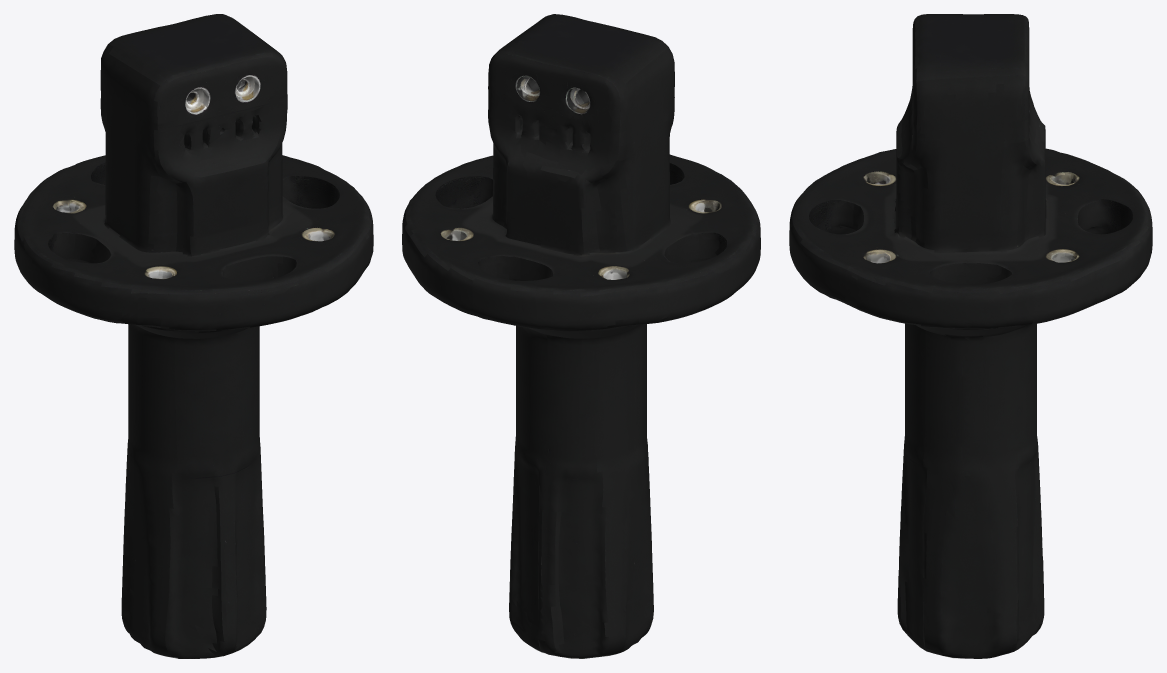
The model's file is cmp-sensor.glb.
3 views of the same model, side by side, from view 1: azimuth 30°, elevation 25°; view 2: azimuth 150°, elevation 25°; view 3: azimuth 270°, elevation 25° (orthographic).
Bounding box in the file's own units: 1.05 × 1.9 × 1.05.
Materials: 1 (1 with a texture image).
